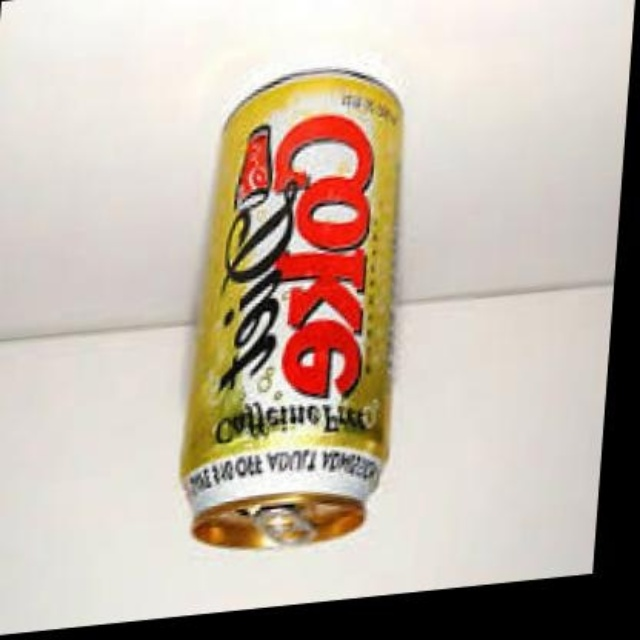trash: (180, 71, 402, 546)
